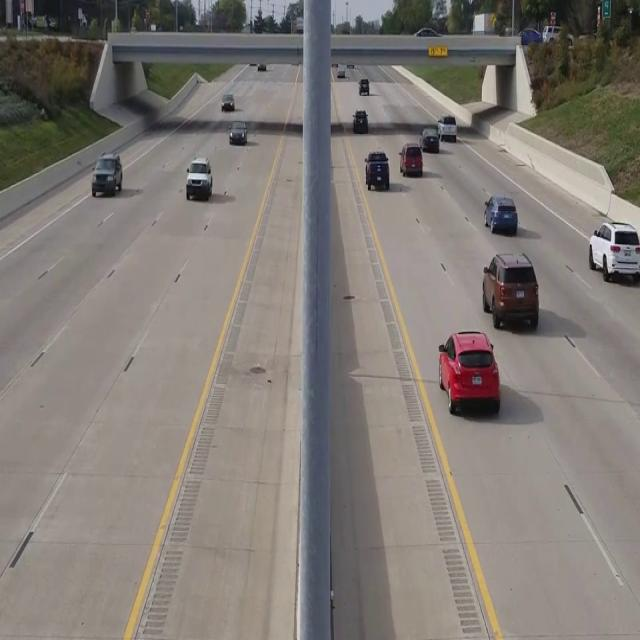car: (437, 329, 500, 414), (482, 252, 539, 330), (588, 220, 640, 284), (483, 194, 518, 235), (91, 152, 122, 196), (185, 159, 213, 200), (364, 150, 389, 191), (398, 144, 422, 176), (229, 120, 247, 144), (353, 109, 368, 133), (221, 92, 234, 110)
